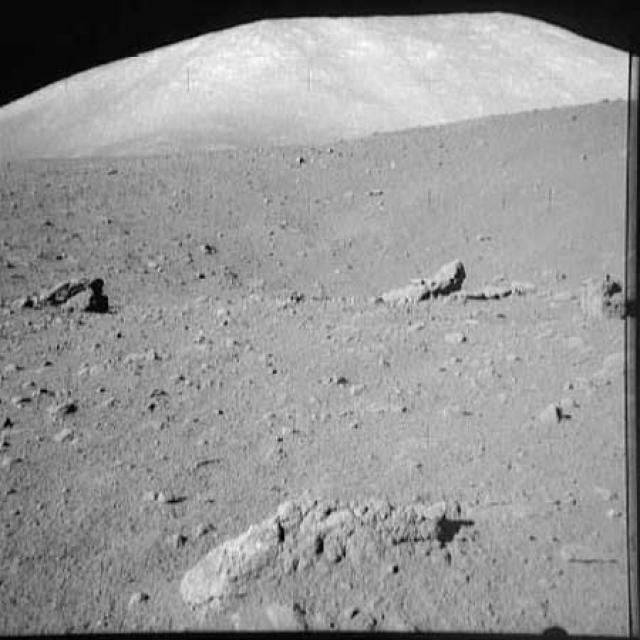rock: (163, 480, 460, 609), (11, 265, 126, 319), (369, 252, 466, 308), (566, 270, 638, 324), (446, 278, 546, 310)
